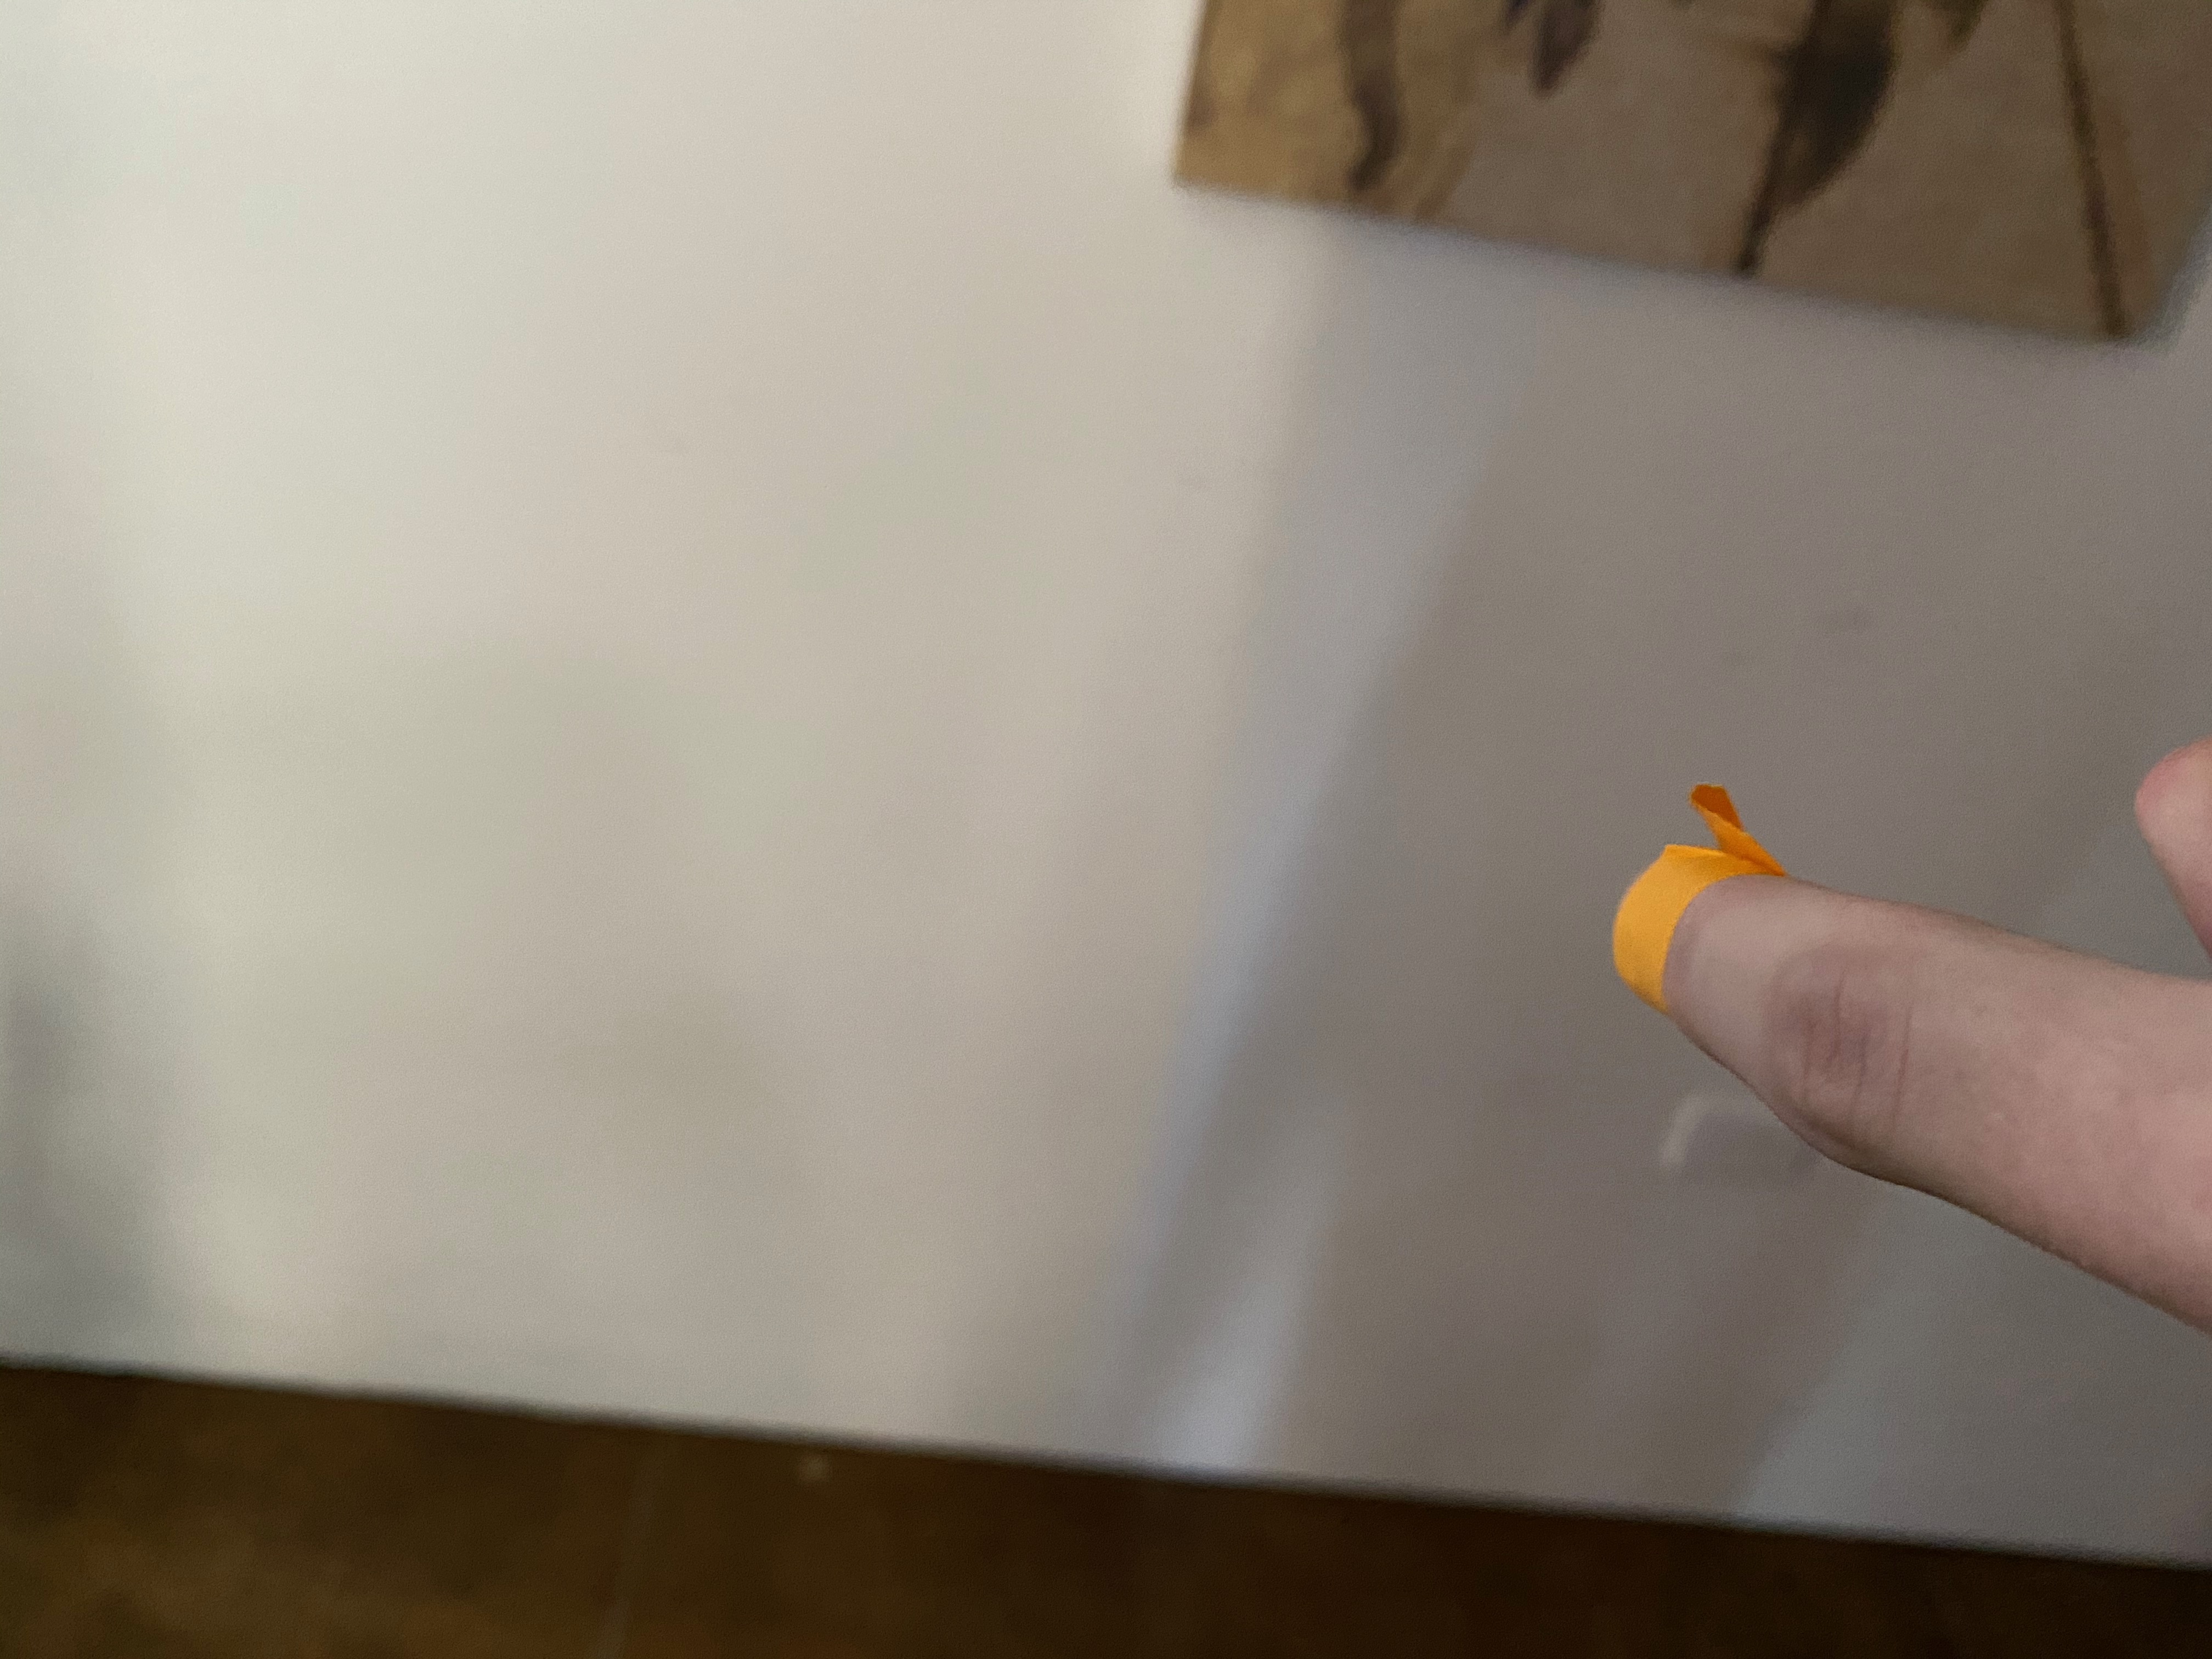fingertip: (1527, 770, 1782, 1032)
